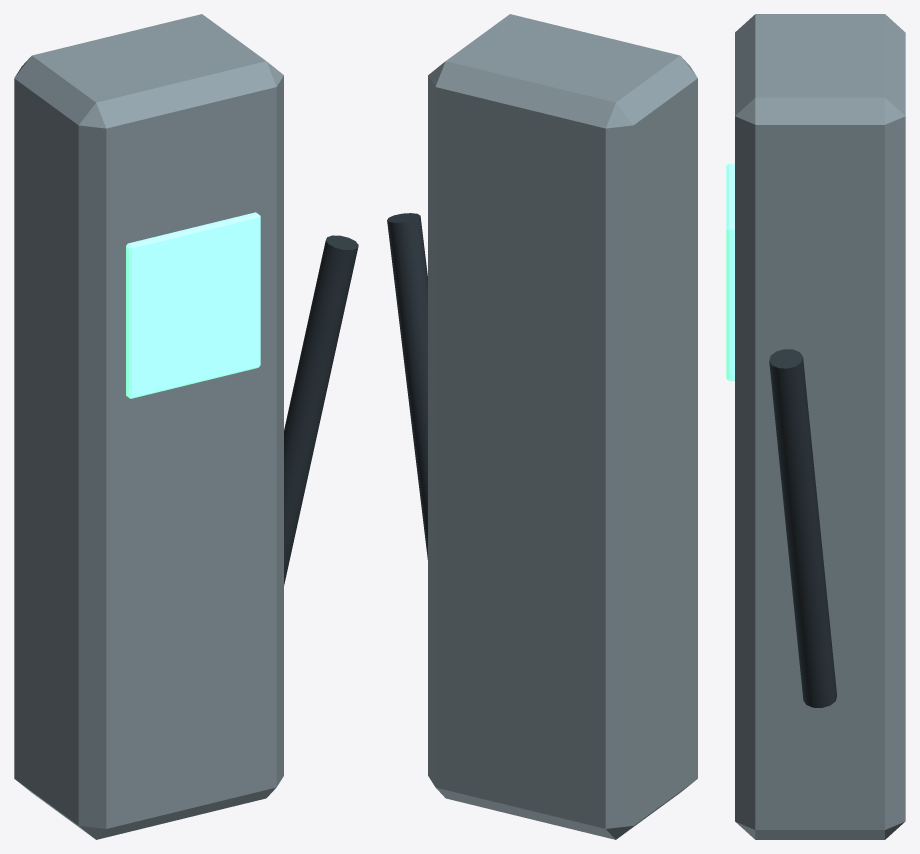
The model's file is charger.lod0.glb.
3 views of the same model, side by side, from view 1: azimuth 30°, elevation 25°; view 2: azimuth 150°, elevation 25°; view 3: azimuth 270°, elevation 25° (orthographic).
Visible parts, largest first — view 1: structure; view 2: structure; view 3: structure.
Boxes of the visible parts, x1,y1,x2,y2 form: structure: (14, 14, 358, 839); structure: (387, 14, 697, 839); structure: (726, 14, 905, 839).
Bounding box in the file's own units: 0.999 × 2.4 × 0.525.
